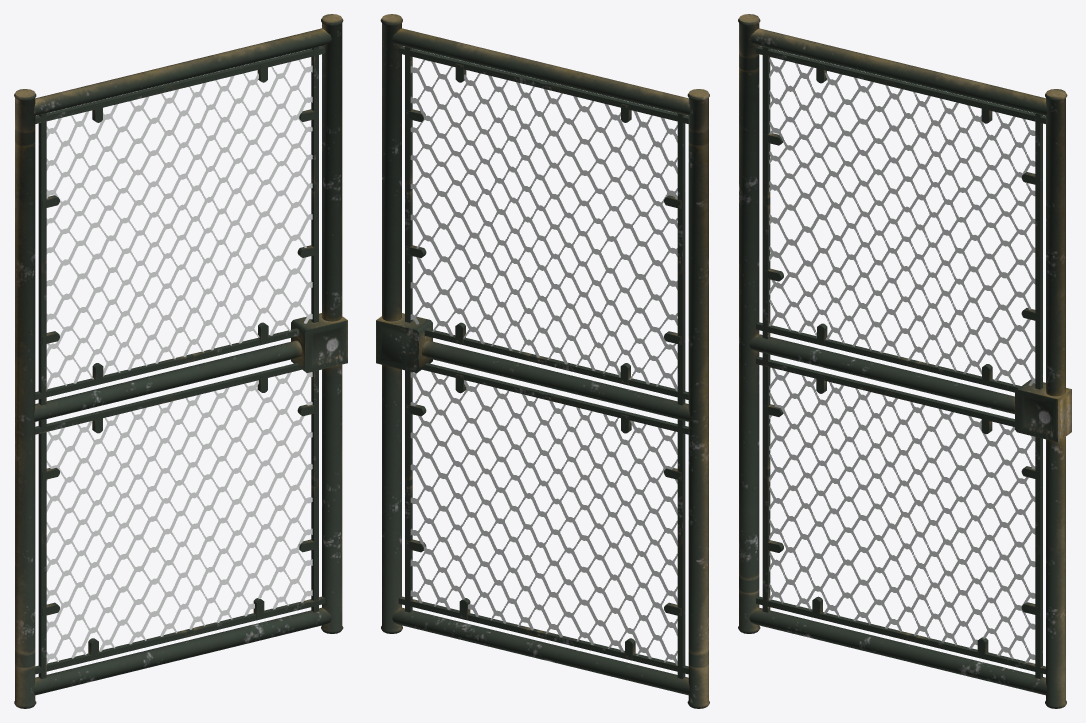
Rendered from SM_Fence_Exterior_Gate.fbx.
The picture shows the model from 3 angles, left to right: view 1: azimuth 30°, elevation 25°; view 2: azimuth 150°, elevation 25°; view 3: azimuth 330°, elevation 25°; orthographic projection.
Visible parts, largest first — view 1: SM_Fence_Exterior_Gate_LOD0; view 2: SM_Fence_Exterior_Gate_LOD0; view 3: SM_Fence_Exterior_Gate_LOD0.
Part boxes in pixels (x1=…): SM_Fence_Exterior_Gate_LOD0: x1=14, y1=14, x2=347, y2=708; SM_Fence_Exterior_Gate_LOD0: x1=376, y1=14, x2=709, y2=708; SM_Fence_Exterior_Gate_LOD0: x1=738, y1=14, x2=1071, y2=708.
Size of the model in its own units: 131 by 10.49 by 234.
1 material, 1 textured.
